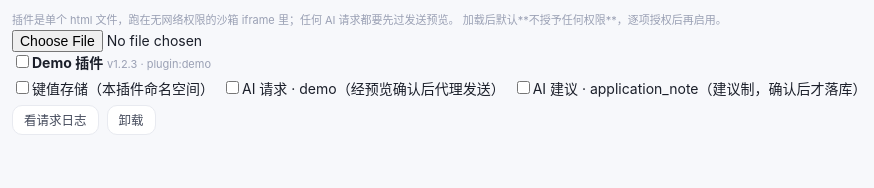
PluginsPanel › 请求日志按插件过滤的文本列表（无原文，只有元数据）
Expected: the text "2026-10-21" is not shown
Click the button "看请求日志": (55, 120) x1=12 y1=105 x2=98 y2=135
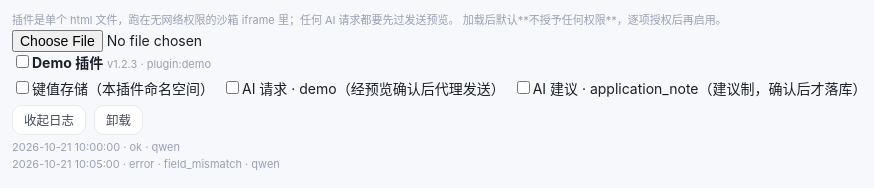
Result: the element with test id "plugin-logs-plugin:demo" shows "ok" at x1=130 y1=140 x2=142 y2=154
Result: the element with test id "plugin-logs-plugin:demo" shows "field_mismatch" at x1=154 y1=157 x2=242 y2=171
Result: the element with test id "plugin-logs-plugin:demo" shows "qwen" at x1=152 y1=140 x2=180 y2=154
